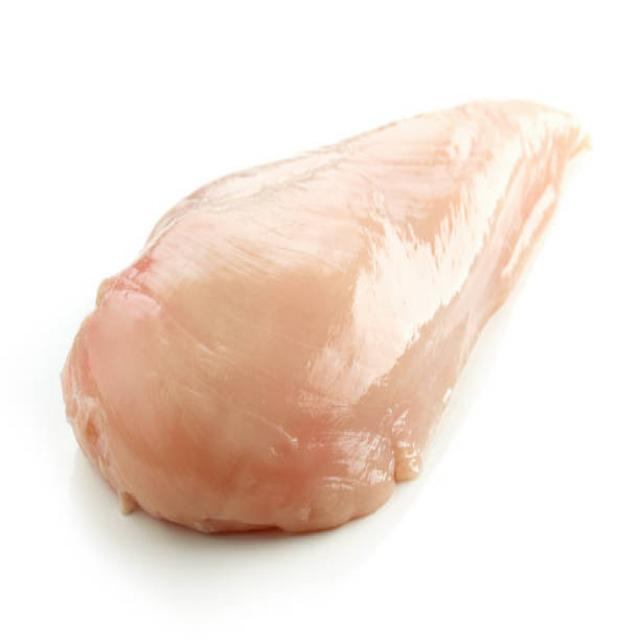Chicken: (64, 98, 590, 558)
